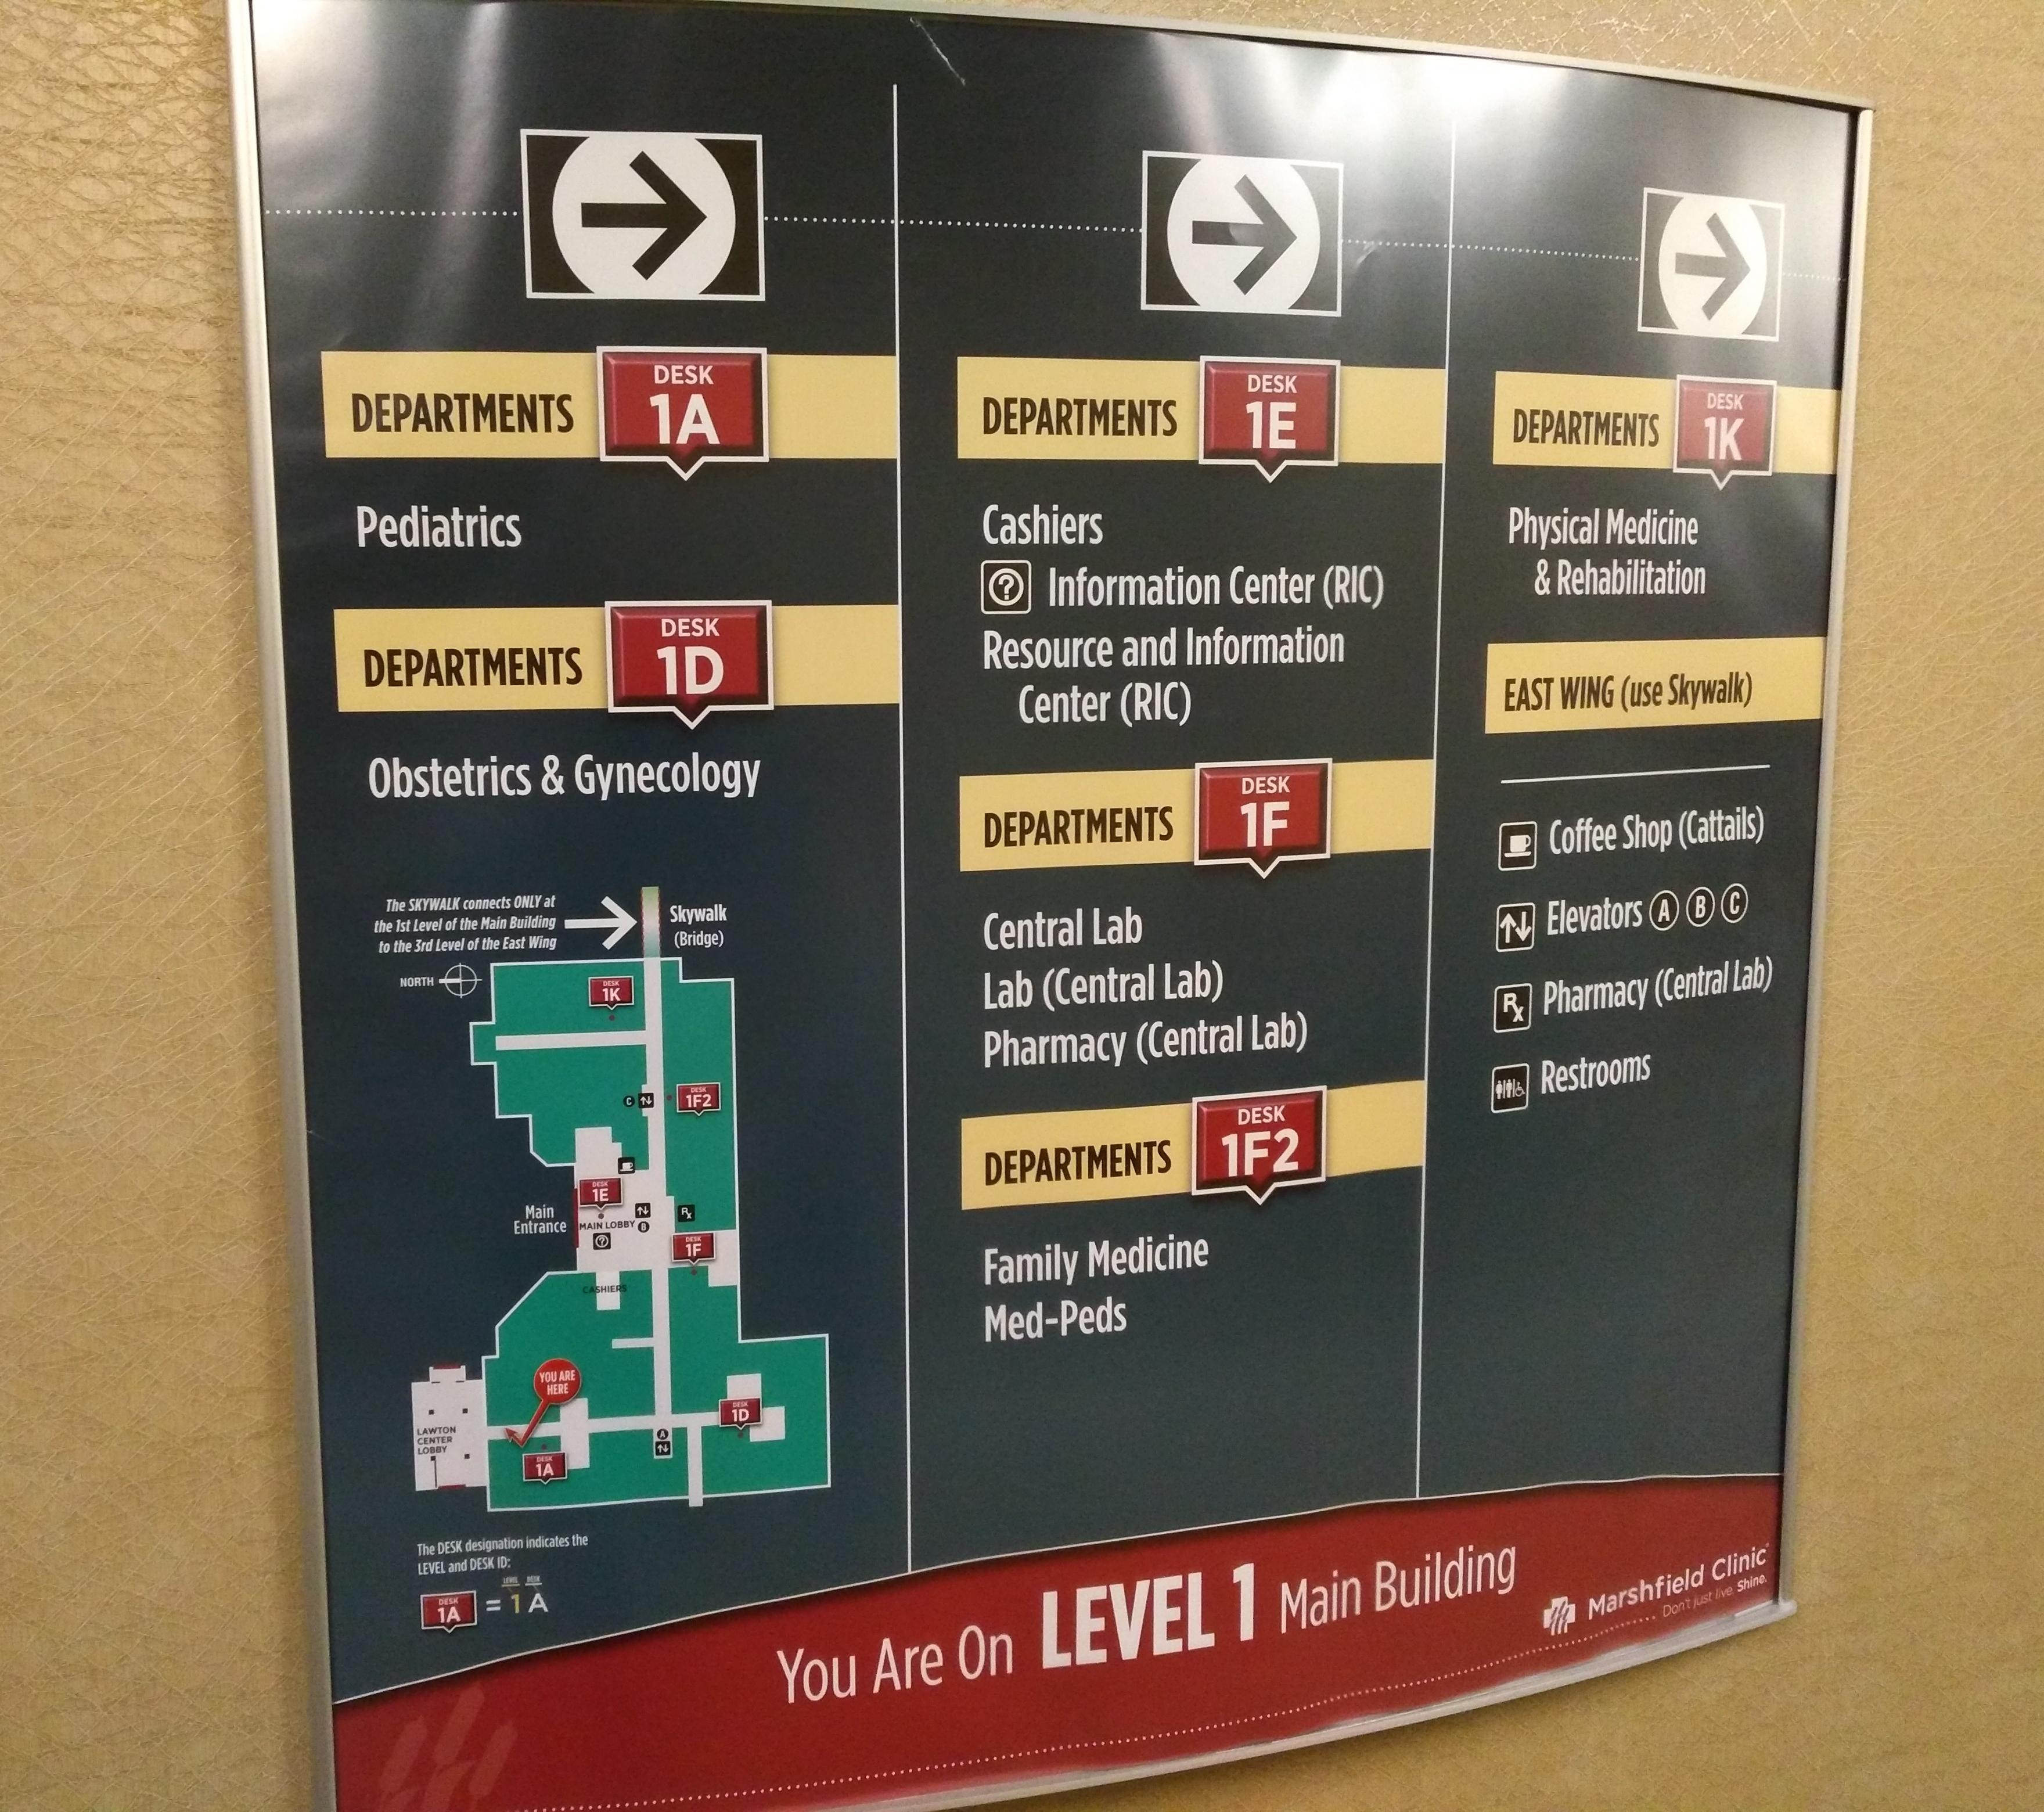sign: (226, 5, 1876, 1809)
